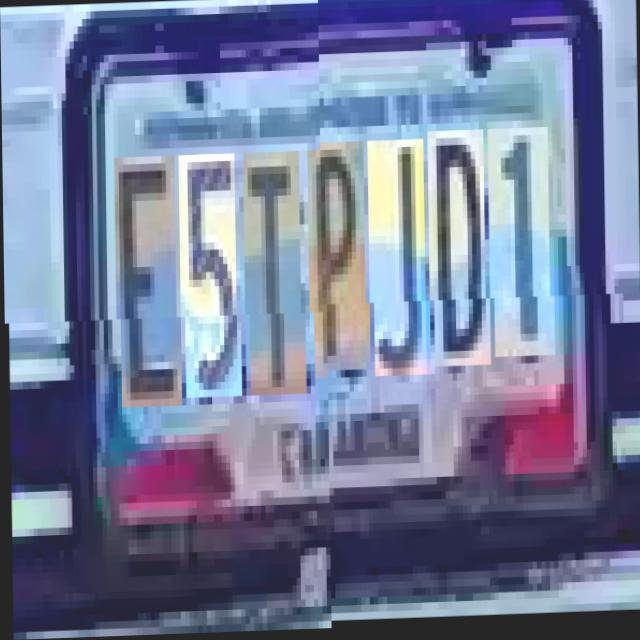1: (491, 138, 554, 368)
5: (182, 154, 242, 400)
D: (431, 140, 490, 377)
E: (118, 157, 181, 409)
J: (372, 150, 431, 386)
P: (310, 151, 370, 381)
T: (247, 152, 306, 398)
